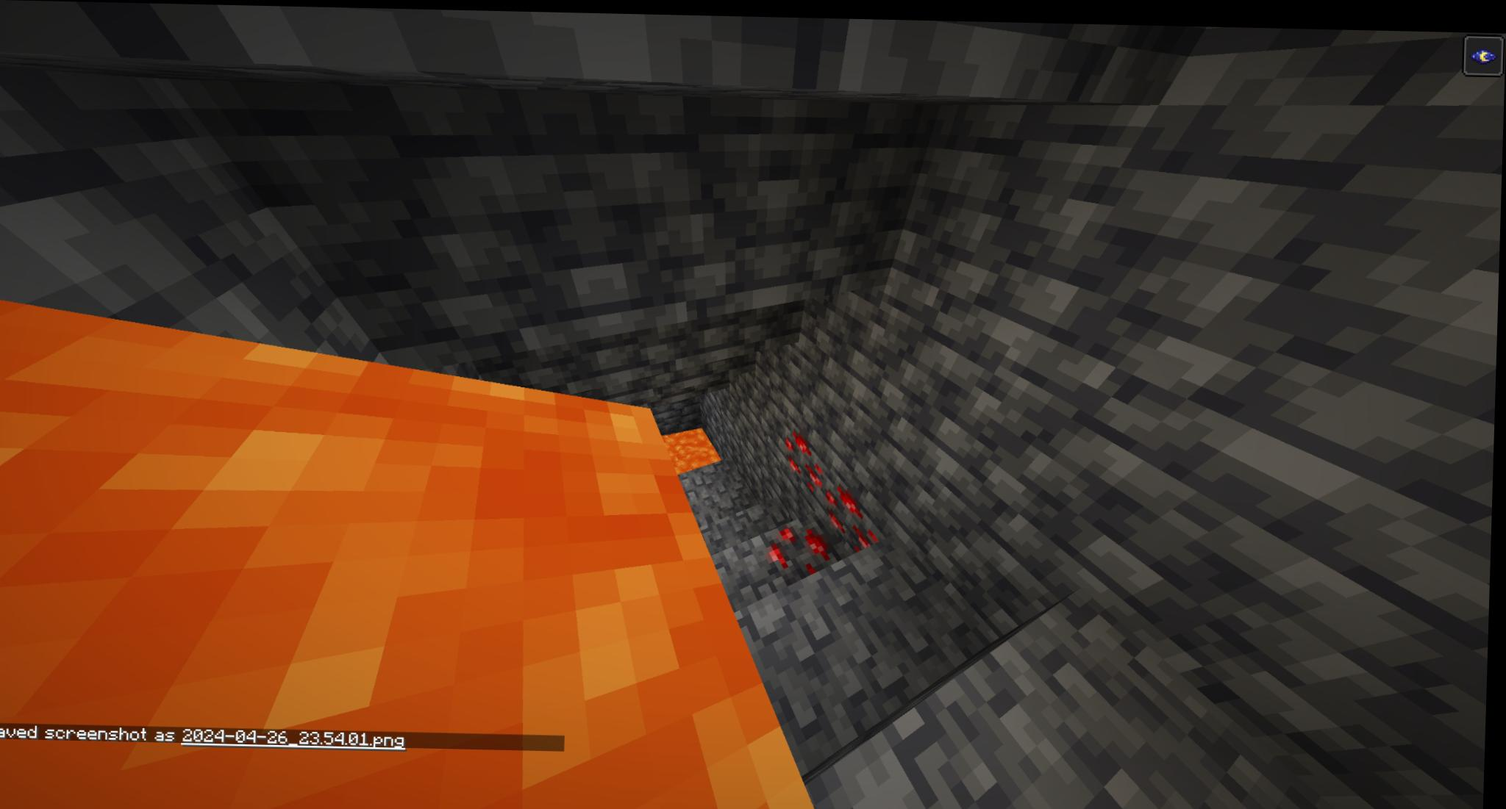redstone ore: (819, 476, 884, 548), (766, 517, 833, 575), (779, 427, 826, 498)
